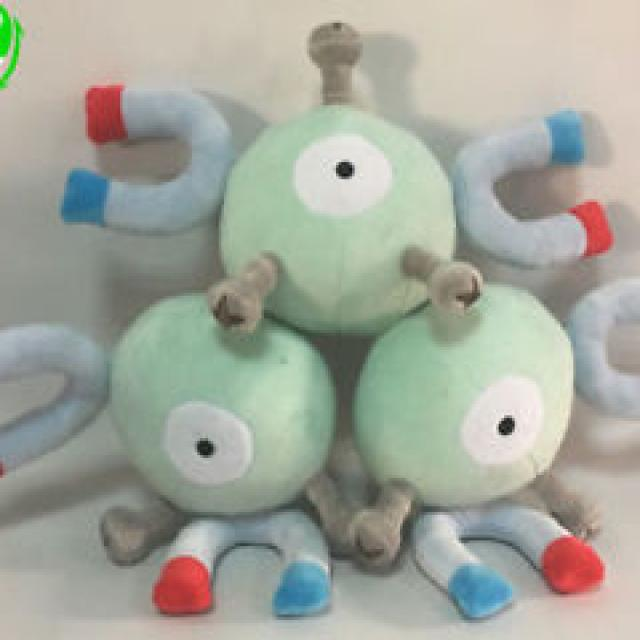Magneton: (70, 70, 611, 610)
